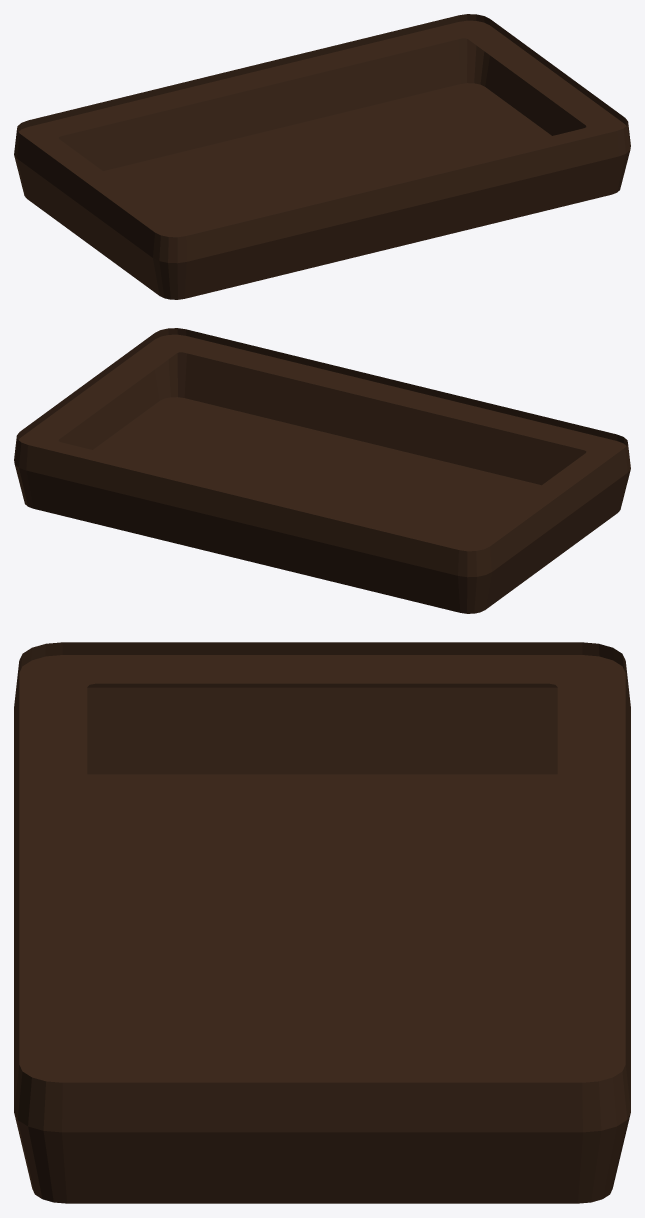
Rendered from body_skirt.glb.
The picture shows the model from 3 angles, top to bottom: view 1: azimuth 30°, elevation 25°; view 2: azimuth 150°, elevation 25°; view 3: azimuth 270°, elevation 25°; orthographic projection. The views are drawn at different scales.
Parts seen in each view (by area): view 1: body_skirt; view 2: body_skirt; view 3: body_skirt.
Boxes of the visible parts, x1,y1,x2,y2 form: body_skirt: (14, 14, 630, 299); body_skirt: (14, 328, 630, 613); body_skirt: (14, 642, 630, 1203).
Bounding box in the file's own units: 2.42 × 0.32 × 1.42.
